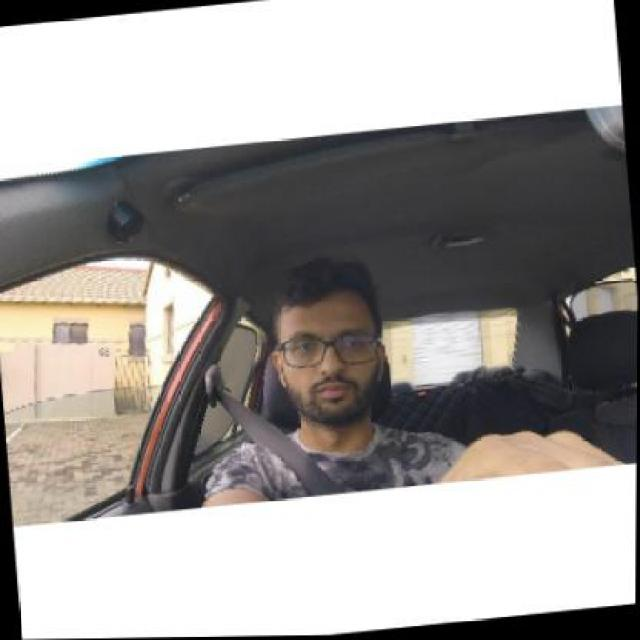person: (269, 280, 388, 419)
